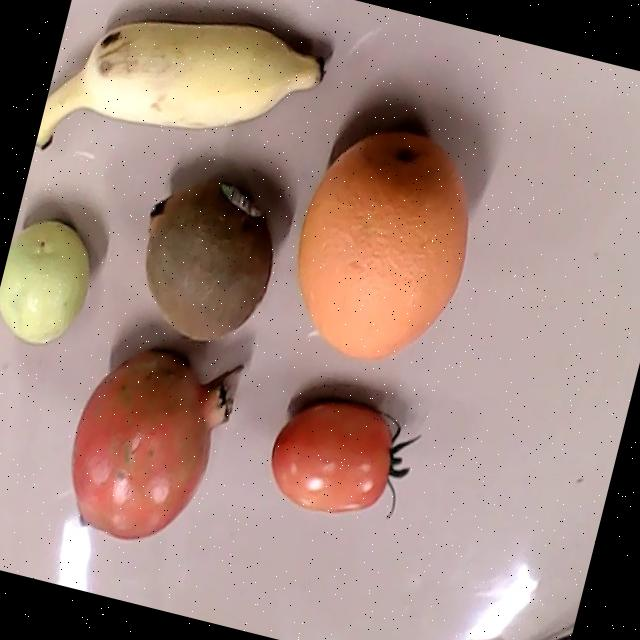kiwi: (144, 176, 273, 340)
lemon: (0, 219, 88, 344)
orange: (298, 130, 467, 357)
pomegranate: (72, 349, 244, 537)
tomato: (270, 400, 420, 518)
